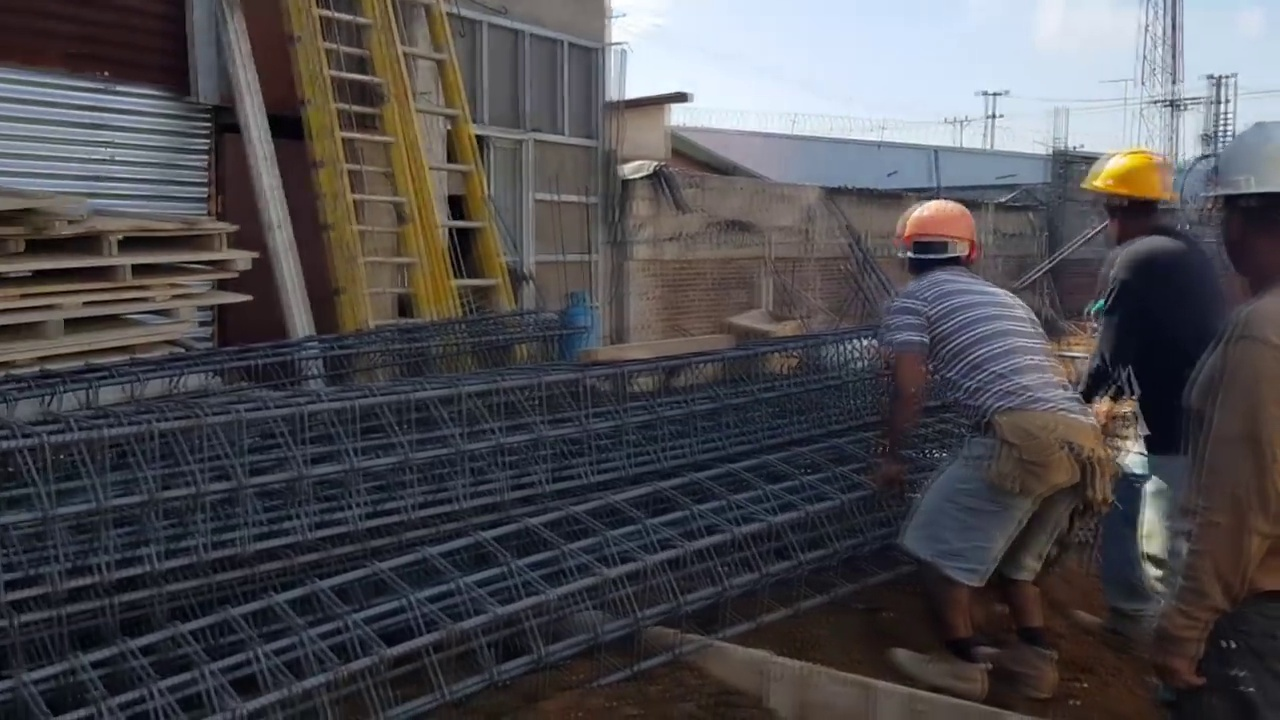helmet: (1207, 110, 1280, 203), (1079, 148, 1176, 210), (893, 197, 984, 260)
helmet-on: (1207, 110, 1280, 309), (1080, 144, 1179, 252), (891, 191, 988, 290)
person: (879, 195, 1107, 705), (1080, 145, 1235, 629)
